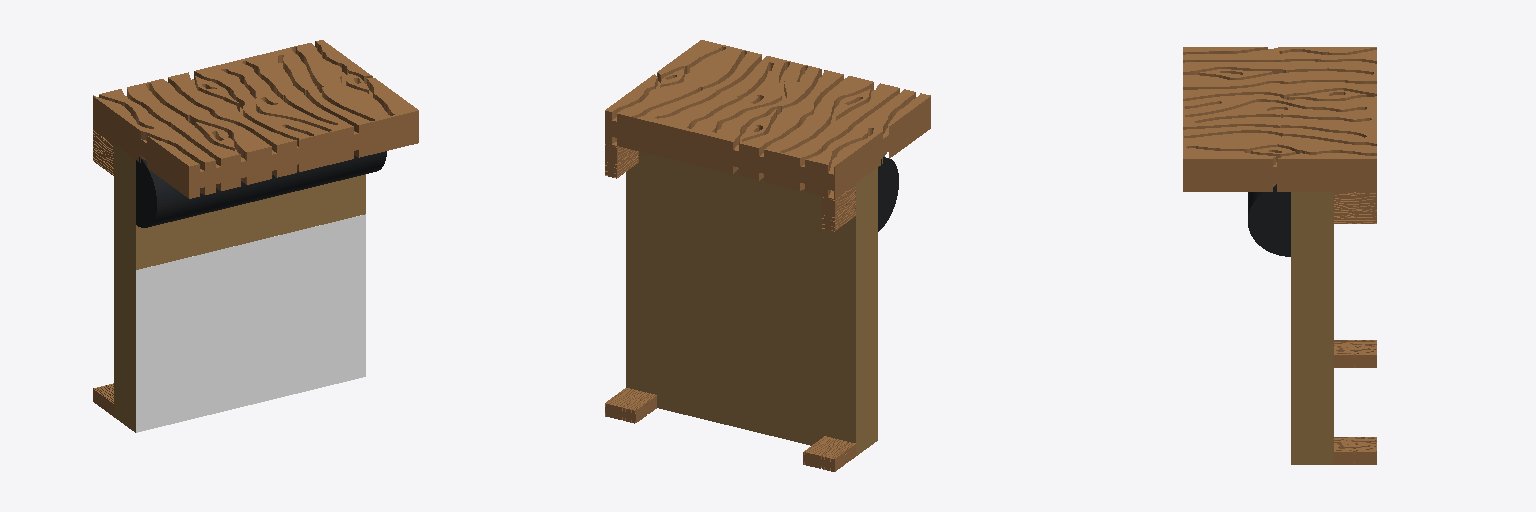
Rendered from tinker.obj.
The picture shows the model from 3 angles: view 1: azimuth 30°, elevation 25°; view 2: azimuth 150°, elevation 25°; view 3: azimuth 270°, elevation 25°; orthographic projection.
Parts seen in each view (by area): view 1: obj_0; view 2: obj_0; view 3: obj_0.
Part boxes in pixels (x1,y1,x2,y2): obj_0: (93, 40, 418, 432); obj_0: (605, 40, 930, 471); obj_0: (1183, 47, 1376, 464).
Bounding box in the file's own units: 37 × 47 × 27.